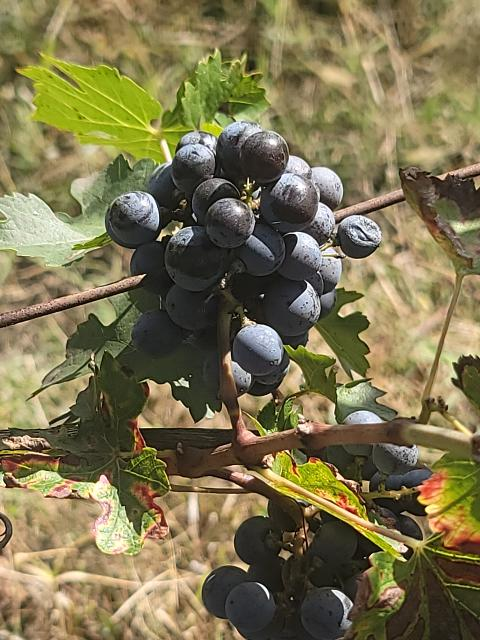grapes: (105, 121, 381, 399), (202, 505, 381, 640)
